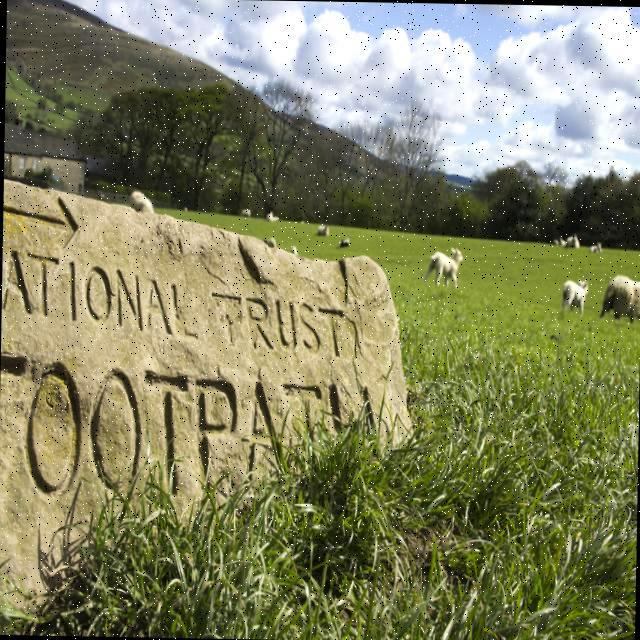sheep: (597, 273, 640, 317), (423, 247, 460, 284)
